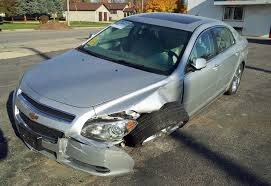Broken-glass: (75, 110, 145, 147)
Smashed: (61, 76, 185, 178)
